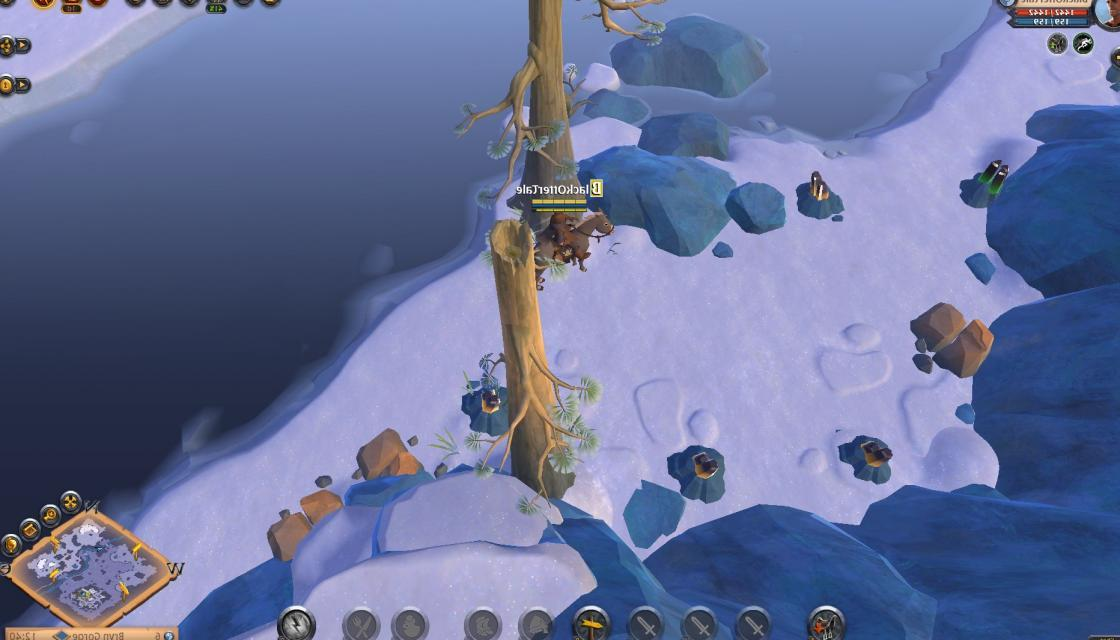copperore: (668, 438, 728, 502), (836, 429, 899, 482), (464, 373, 514, 438), (792, 168, 847, 222)
limestone: (909, 300, 998, 376), (262, 484, 344, 566), (353, 427, 433, 492)
tinore: (952, 158, 1012, 210)
